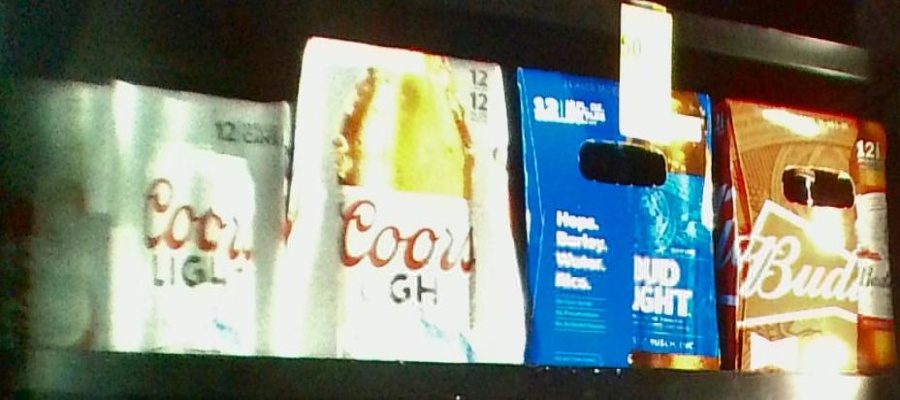bottle: (296, 37, 515, 370), (518, 66, 721, 363), (108, 78, 293, 352), (719, 93, 894, 370), (1, 79, 106, 348)
